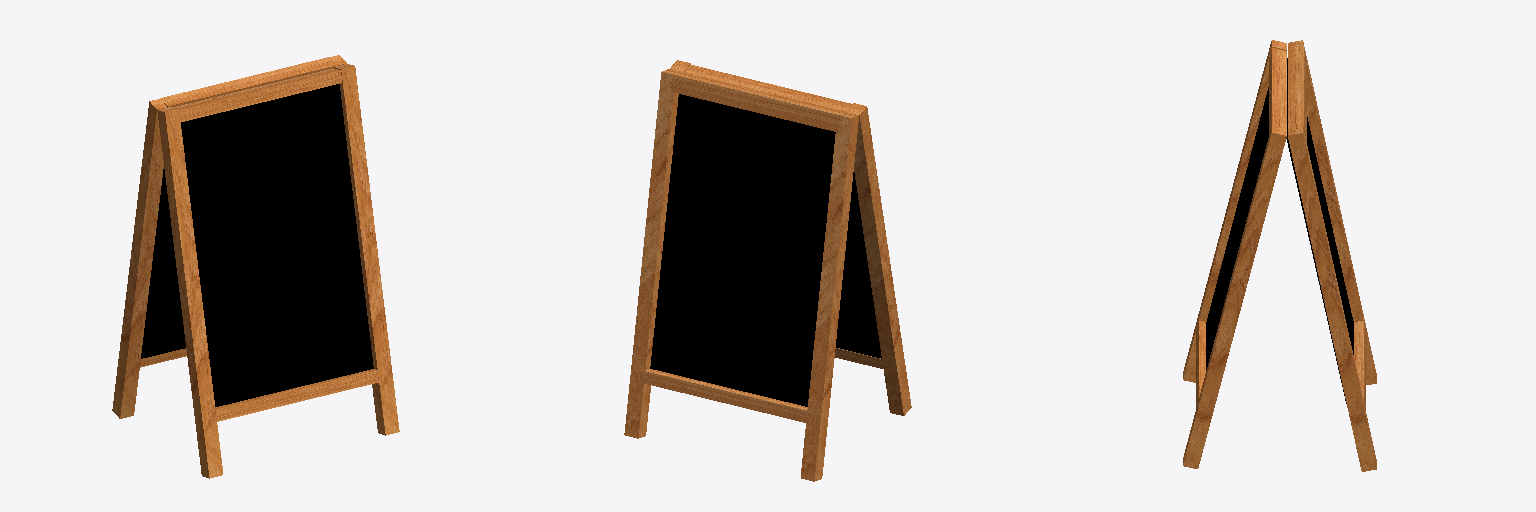
3 renders of one model, left to right at view 1: azimuth 30°, elevation 25°; view 2: azimuth 150°, elevation 25°; view 3: azimuth 270°, elevation 25°, orthographic.
Visible parts, largest first — view 1: pCube5, pasted__pCube3 group4, pasted__pasted__pCube3 pasted__group4 group6, pCube3, pasted__pCube5 group9, pasted__pasted__pCube2 pasted__group2 group5, pasted__pasted__pasted__pCube2 pasted__pasted__group2 pasted__gr, pCube4; view 2: pasted__pCube5 group9, pCube3, pasted__pCube3 group3, pasted__pCube3 group4, pCube5, pCube4, pCube2, pasted__pasted__pCube2 pasted__group2 group5; view 3: pasted__pasted__pCube3 pasted__group4 group6, pasted__pCube3 group3, pCube3, pCube5, pasted__pCube3 group4, pasted__pCube5 group9, pCube4, pasted__pasted__pCube2 pasted__group2 group5, pCube2, pasted__pasted__pasted__pCube2 pasted__pasted__group2 pasted__gr.
Boxes of the visible parts, <box> form: pCube5: <box>181,84,373,406</box>; pasted__pCube3 group4: <box>157,107,222,478</box>; pasted__pasted__pCube3 pasted__group4 group6: <box>334,64,399,435</box>; pCube3: <box>112,99,170,418</box>; pasted__pCube5 group9: <box>141,169,185,358</box>; pasted__pasted__pCube2 pasted__group2 group5: <box>174,68,341,121</box>; pasted__pasted__pasted__pCube2 pasted__pasted__group2 pasted__gr: <box>215,369,378,421</box>; pCube4: <box>160,57,335,106</box>; pasted__pCube5 group9: <box>650,94,835,406</box>; pCube3: <box>801,113,858,481</box>; pasted__pCube3 group3: <box>624,69,678,438</box>; pasted__pCube3 group4: <box>846,103,911,415</box>; pCube5: <box>836,172,881,358</box>; pCube4: <box>671,71,847,132</box>; pCube2: <box>641,369,810,423</box>; pasted__pasted__pCube2 pasted__group2 group5: <box>685,65,851,111</box>; pasted__pasted__pCube3 pasted__group4 group6: <box>1183,126,1286,468</box>; pasted__pCube3 group3: <box>1288,128,1376,471</box>; pCube3: <box>1288,40,1376,384</box>; pCube5: <box>1206,87,1268,369</box>; pasted__pCube3 group4: <box>1183,40,1286,382</box>; pasted__pCube5 group9: <box>1286,58,1353,403</box>; pCube4: <box>1288,45,1306,142</box>; pasted__pasted__pCube2 pasted__group2 group5: <box>1269,48,1286,133</box>; pCube2: <box>1354,319,1365,410</box>; pasted__pasted__pasted__pCube2 pasted__pasted__group2 pasted__gr: <box>1196,321,1205,407</box>.
Bounding box in the file's own units: 1.45 × 2.48 × 1.28.
5 materials, 1 textured.